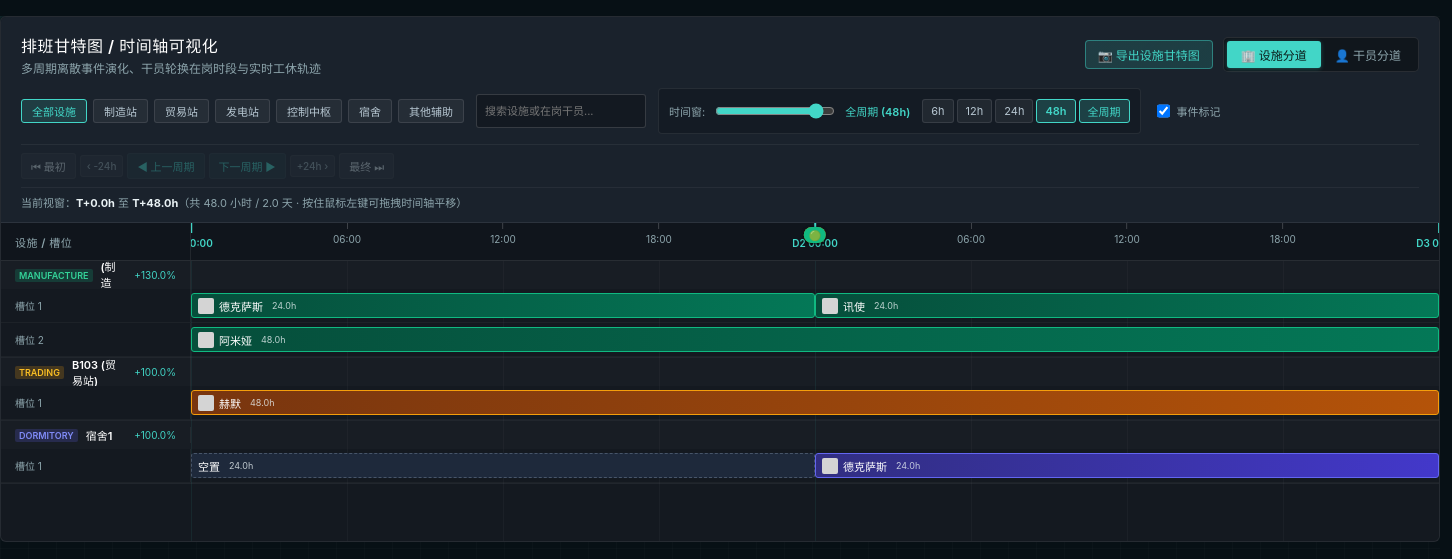
ScheduleTimelineGantt.vue › filters facilities by chip category
Click the button with class "chip-btn" showing "贸易站" at (182,111), box [154, 99, 209, 123]
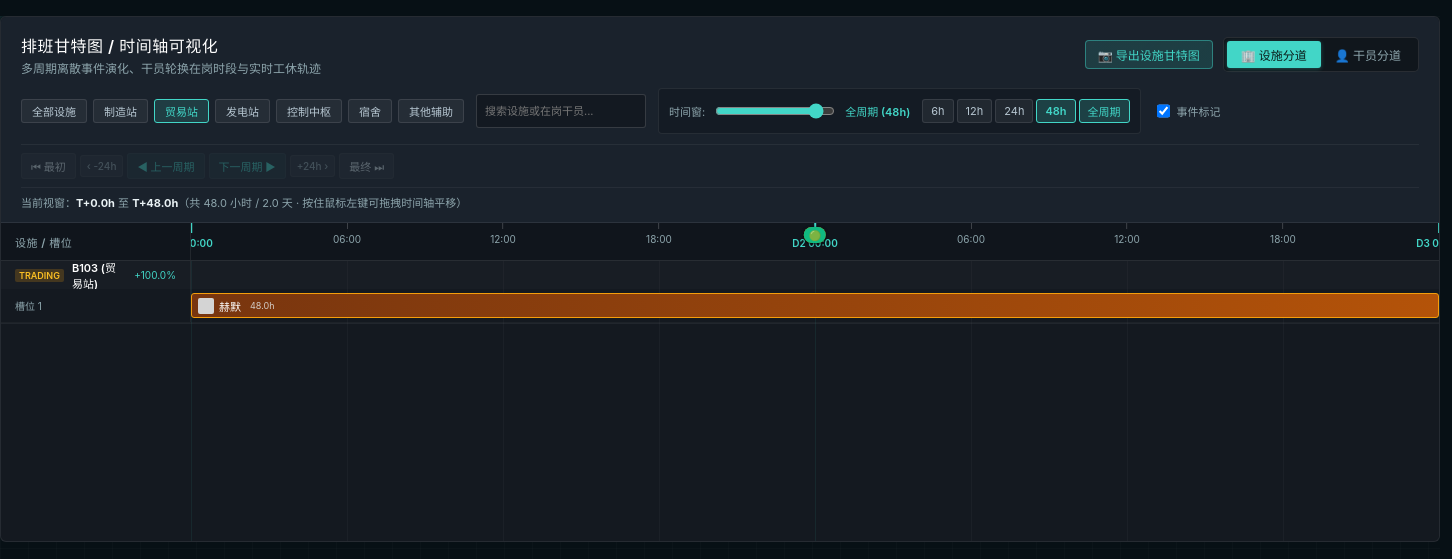
Expected: the element with class "facility-group" shows "贸易站", [72, 261, 116, 291]
Expected: the number of elements with class "facility-group" is 1, [1, 261, 1439, 324]
